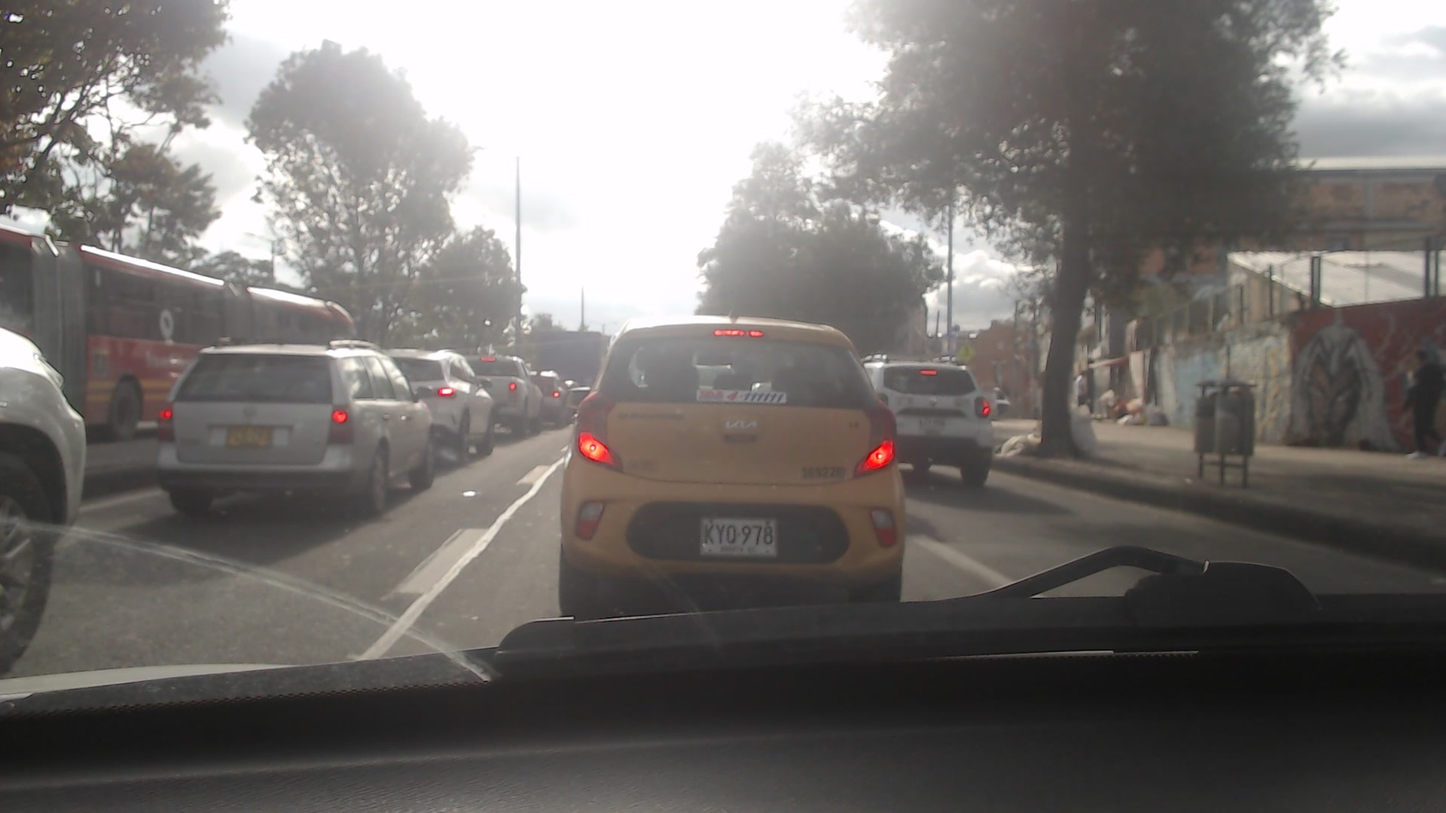car: (554, 324, 908, 606), (154, 347, 434, 509), (856, 354, 1002, 487), (380, 343, 497, 456), (458, 348, 543, 441)
person: (1393, 348, 1446, 470)
